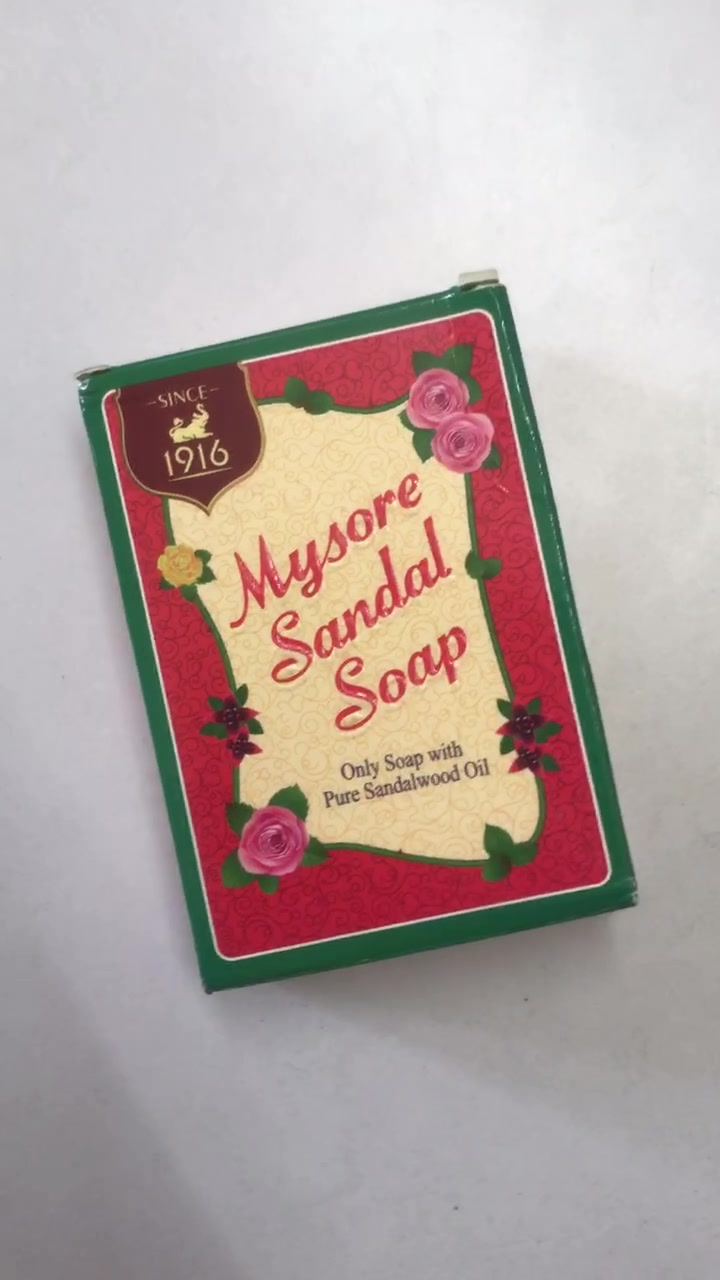mysore sandal soap: (77, 278, 634, 989)
